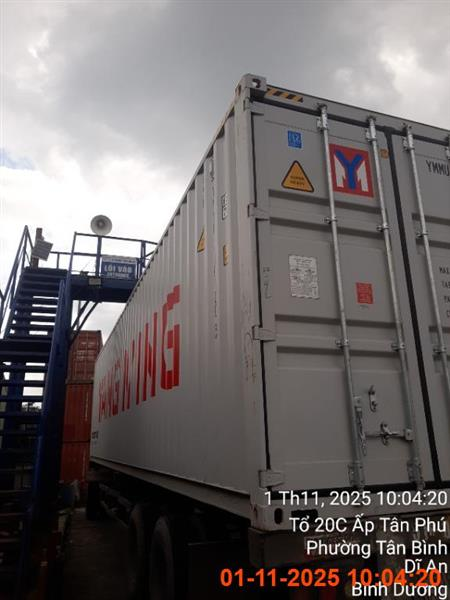broken: (85, 75, 449, 597)
